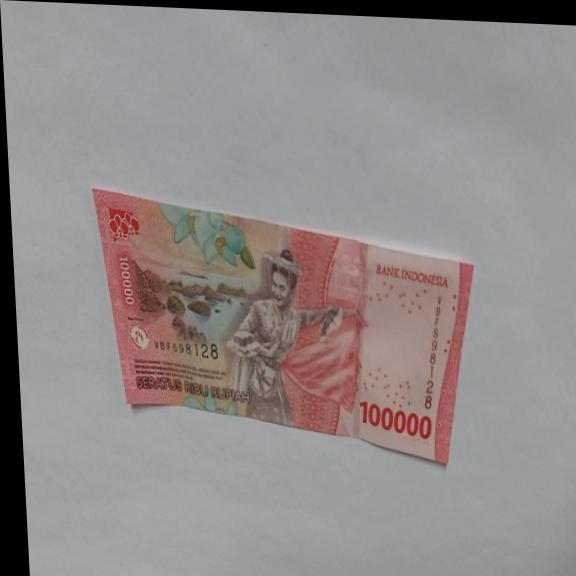Kertas: (91, 185, 485, 469), (358, 399, 433, 441)
